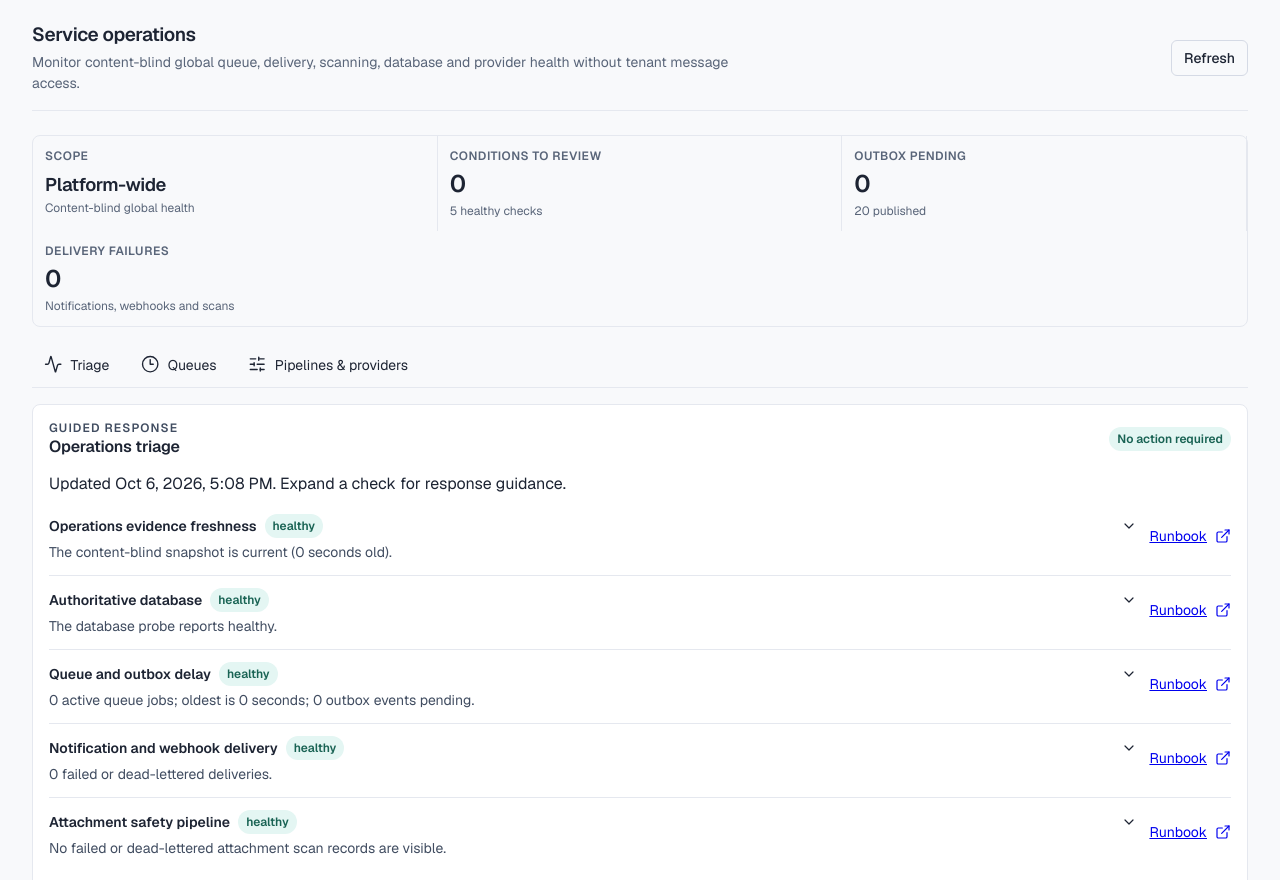
Test: OpsPage › opens new problems and stale evidence after refresh, then compacts recovered conditions
Expected: the text "No action required" is shown, [1109, 427, 1231, 451]
Click the button "Refresh" at x=1210, y=58, box [1171, 40, 1248, 76]
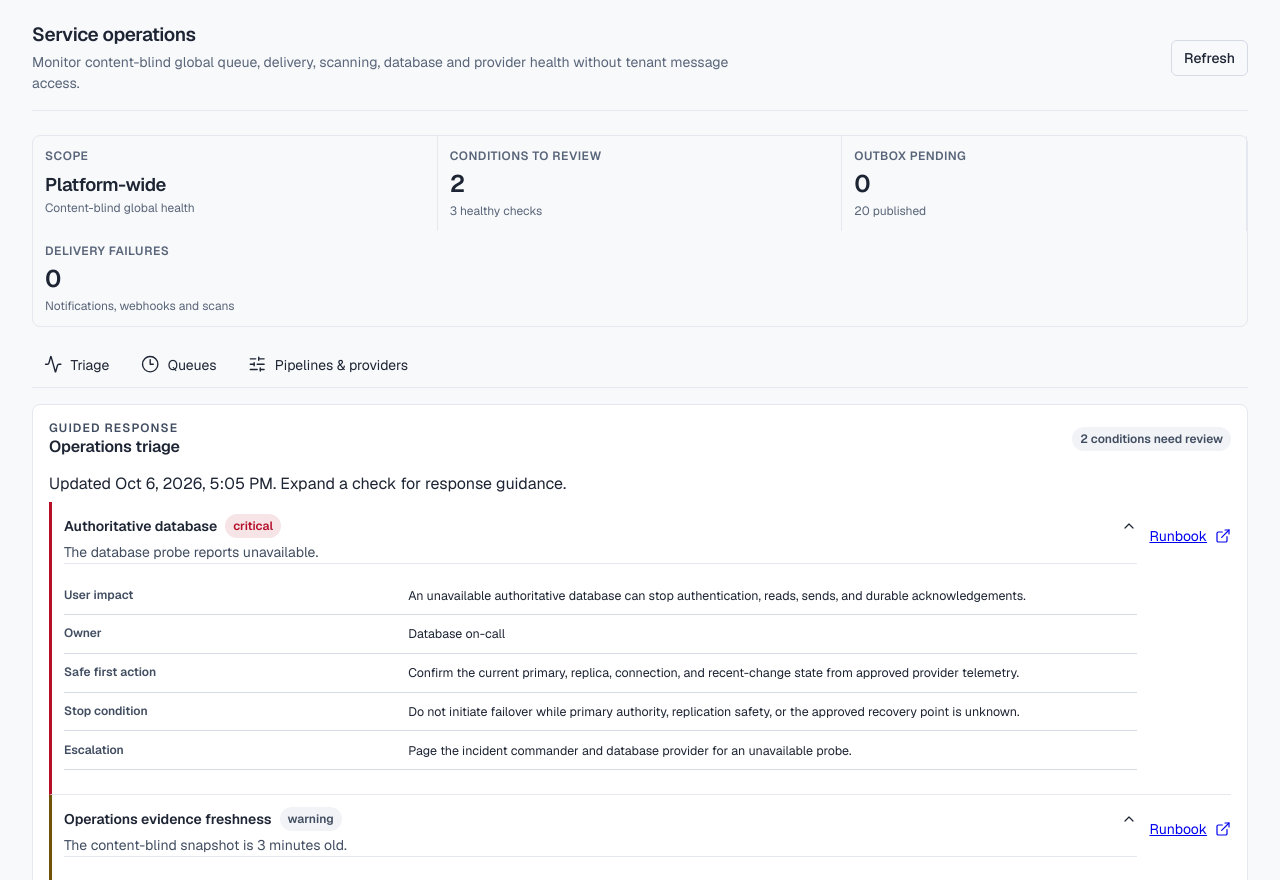
Now the text "2 conditions need review" is shown, box [1072, 427, 1231, 451]
Now the list item with class "ops-triage-item" shows "Authoritative database", box [64, 517, 217, 535]
Click the button "Refresh" at x=1210, y=58, box [1171, 40, 1248, 76]
(page scrolled)
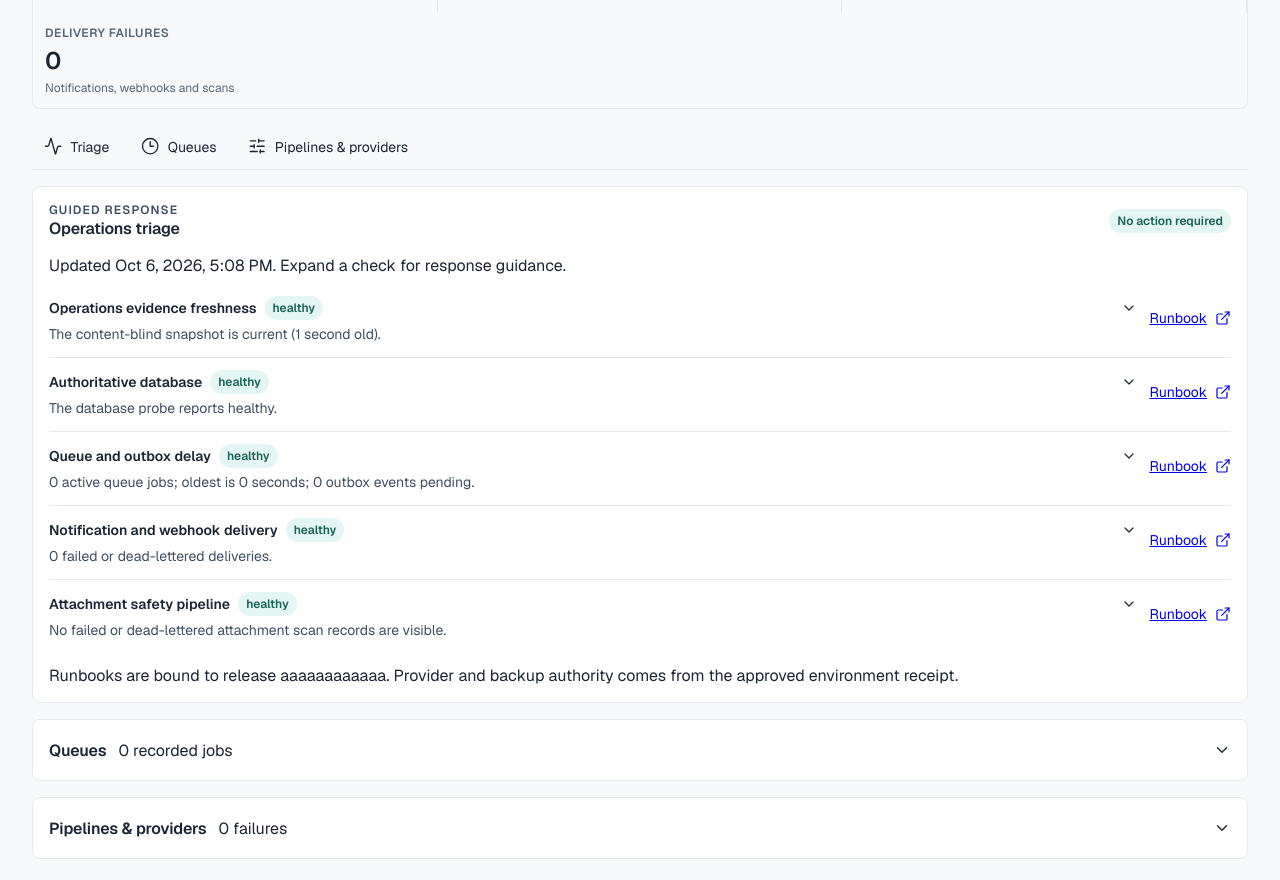
Now the text "No action required" is shown, box [1109, 209, 1231, 233]
